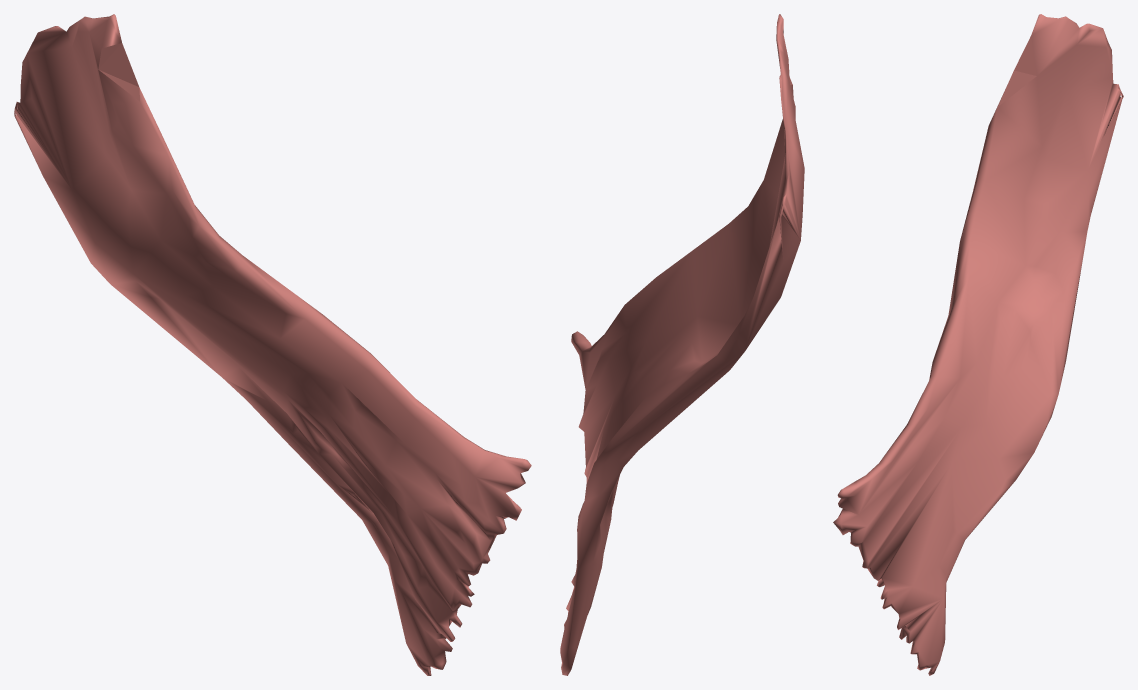
The picture shows the model from 3 angles, left to right: view 1: azimuth 30°, elevation 25°; view 2: azimuth 150°, elevation 25°; view 3: azimuth 270°, elevation 25°; orthographic projection. The views are drawn at different scales.
Parts seen in each view (by area): view 1: ZA_5a121b84ee031bd8; view 2: ZA_5a121b84ee031bd8; view 3: ZA_5a121b84ee031bd8.
Part boxes in pixels (x1,y1,x2,y2): ZA_5a121b84ee031bd8: (14,14,531,675); ZA_5a121b84ee031bd8: (560,14,804,675); ZA_5a121b84ee031bd8: (833,14,1123,675).
Bounding box in the file's own units: 0.0294 × 0.0545 × 0.0256.
